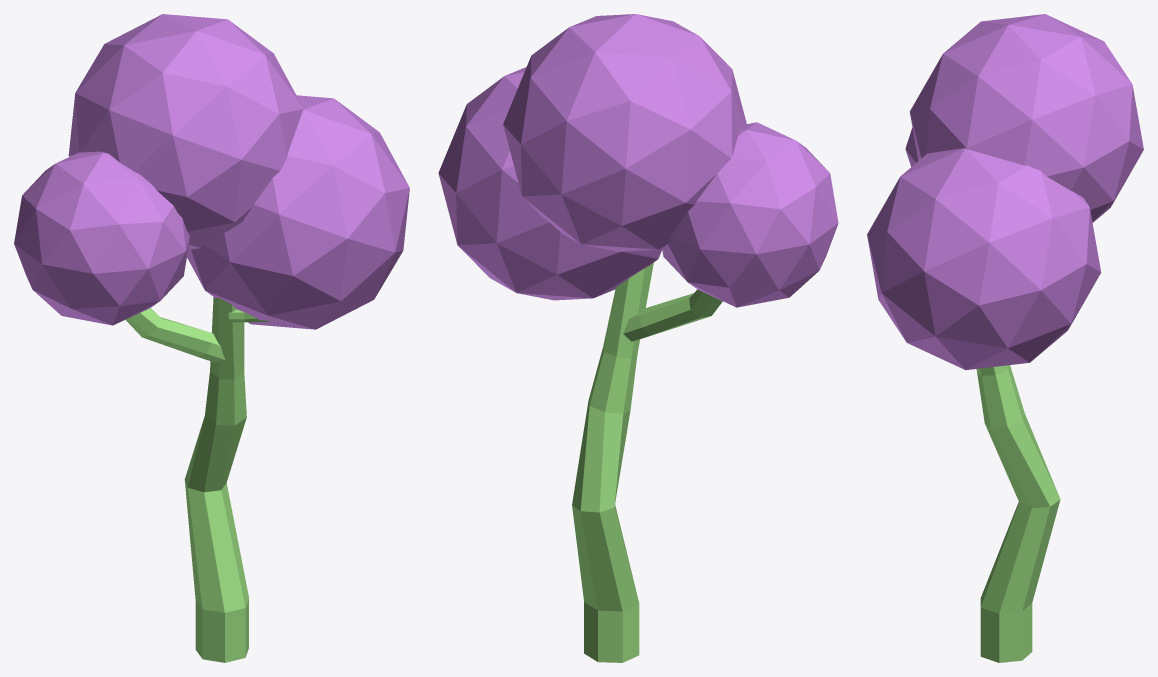
Rendered from OddTree3.fbx.
The picture shows the model from 3 angles, left to right: view 1: azimuth 30°, elevation 25°; view 2: azimuth 150°, elevation 25°; view 3: azimuth 270°, elevation 25°; orthographic projection. The views are drawn at different scales.
Visible parts, largest first — view 1: Icosphere.002; view 2: Icosphere.002; view 3: Icosphere.002.
Boxes of the visible parts, bbox=[...] form: Icosphere.002: bbox=[14, 14, 409, 662]; Icosphere.002: bbox=[438, 14, 838, 662]; Icosphere.002: bbox=[867, 14, 1143, 662].
Size of the model in its own units: 357 by 587 by 240.
